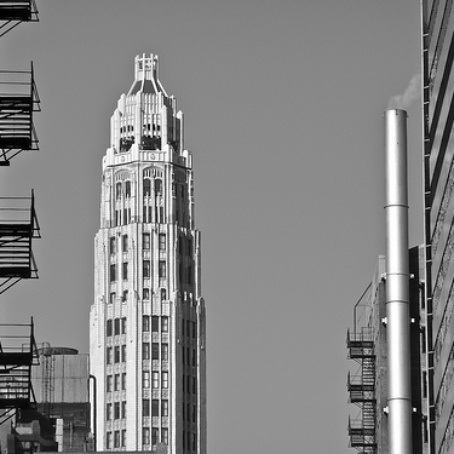building: (83, 50, 206, 454)
sky: (186, 1, 369, 449)
